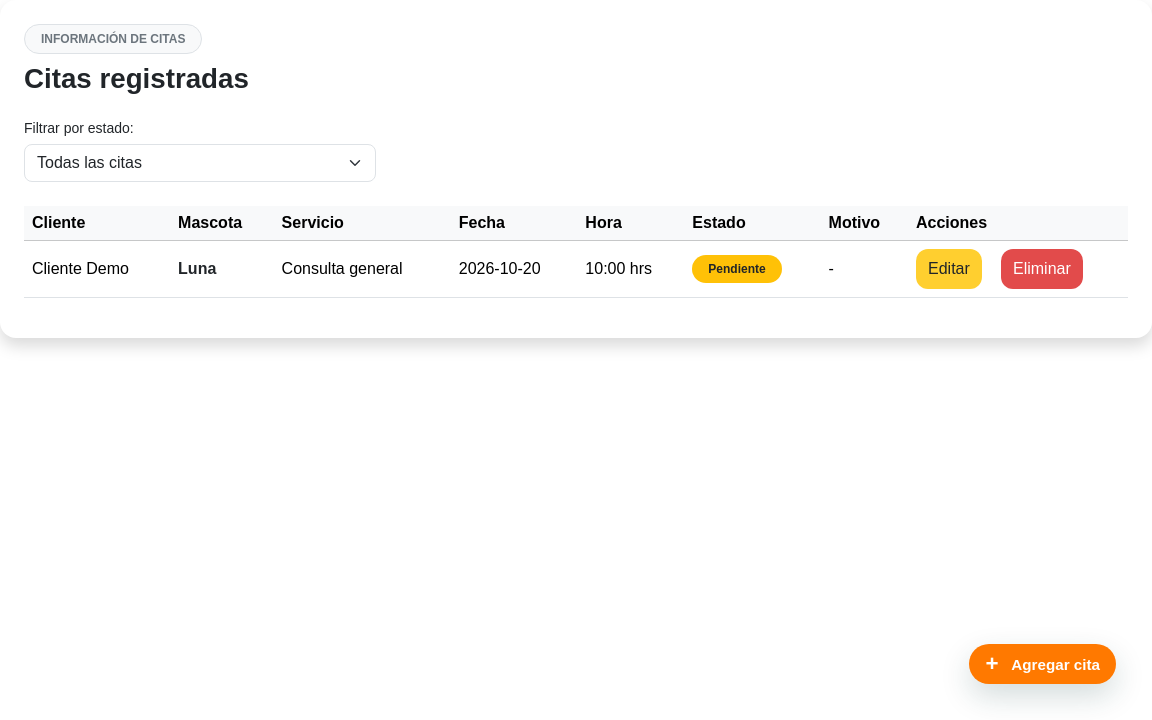
Test: conserva la cita cuando se cancela la confirmación de eliminación
Click the button "Eliminar" at (1042, 269), box [1001,249,1083,289]
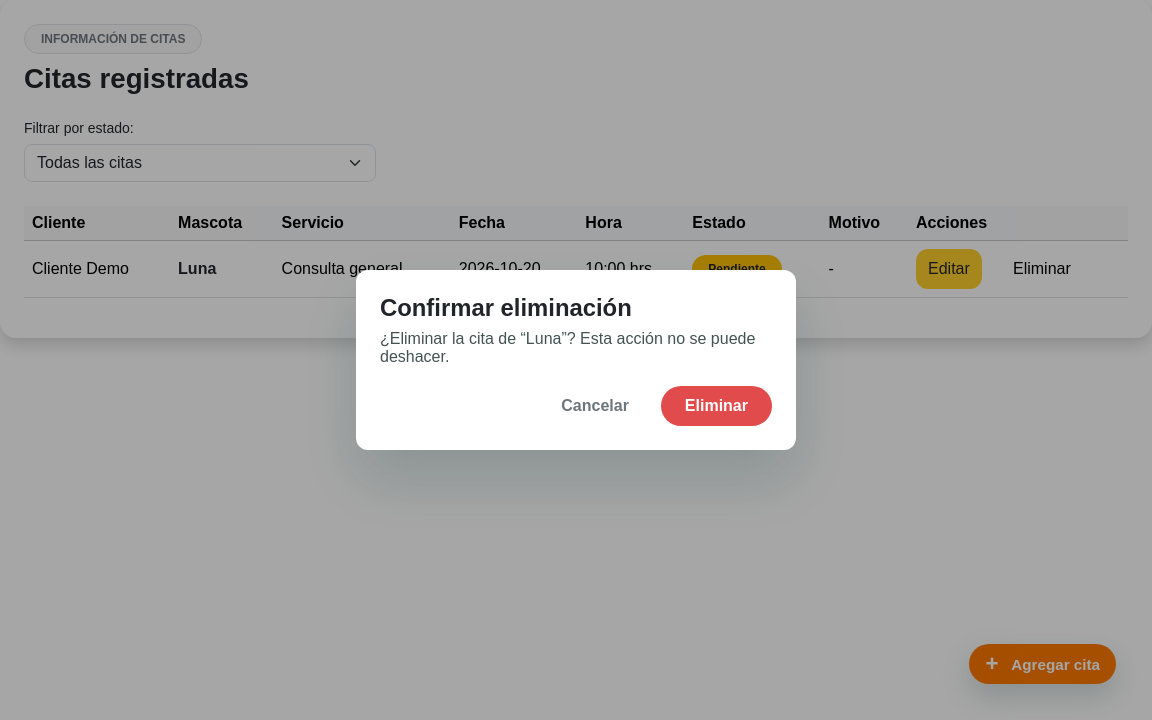
Check: the dialog shows "¿Eliminar la cita de “Luna”?", box [356,270,796,450]
Click the button with class "btn-outline-secondary" at (595, 406), box [537,386,653,426]
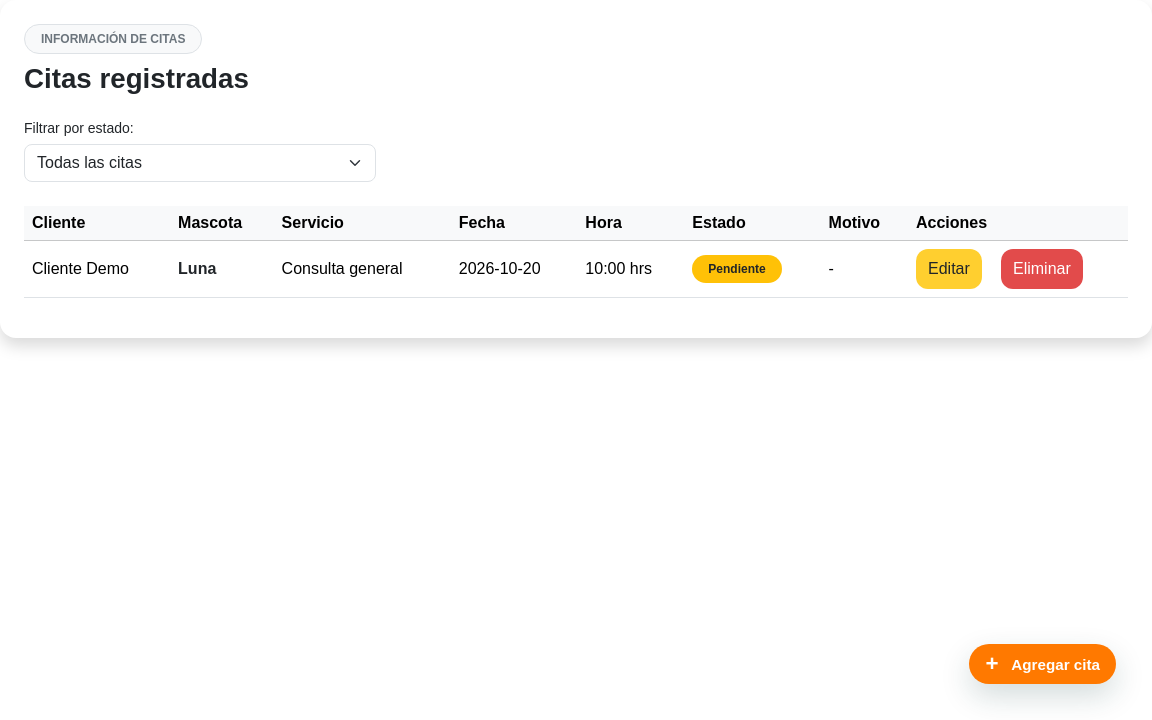
Check: the text "Luna" is shown, box [170,241,274,298]
Check: the dialog is gone
